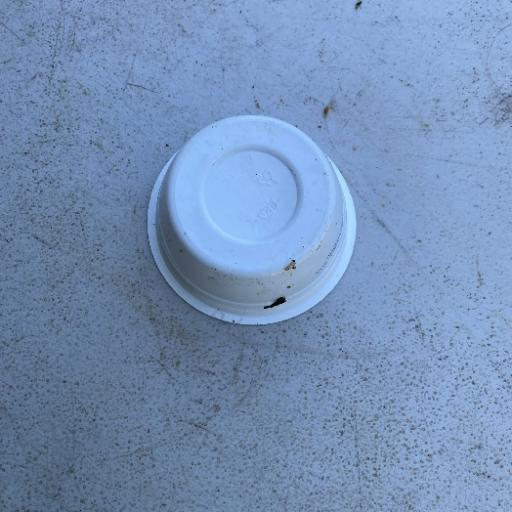Plastic: (144, 112, 358, 328)
